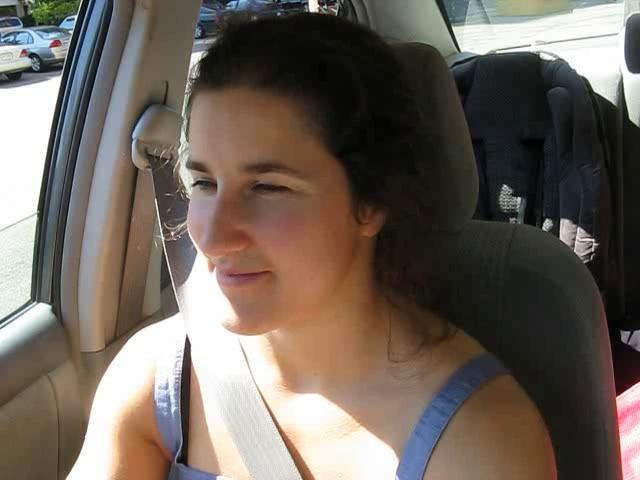close_eyeL: (179, 167, 225, 202)
close_eyeR: (232, 167, 315, 213)
no_yawn: (194, 250, 285, 307)
